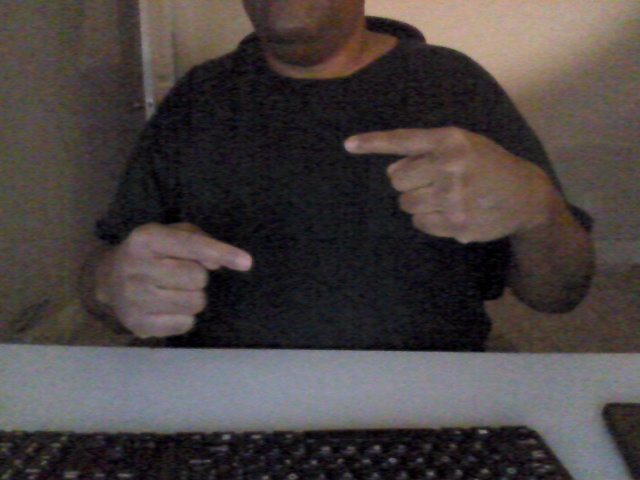go: (103, 112, 539, 342)
